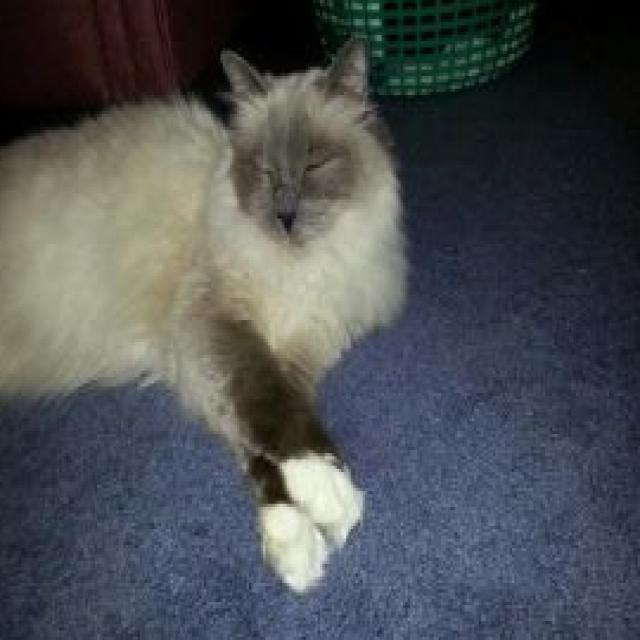Birman: (0, 25, 417, 596)
